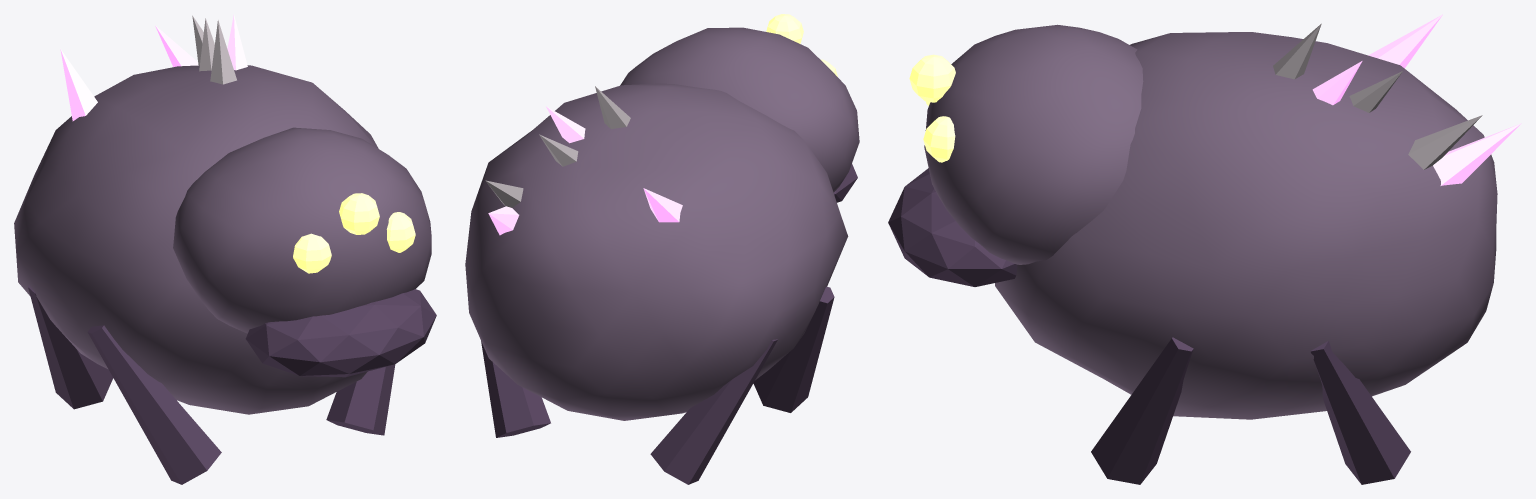
File: blightling.glb
The picture shows the model from 3 angles, left to right: view 1: azimuth 30°, elevation 25°; view 2: azimuth 150°, elevation 25°; view 3: azimuth 270°, elevation 25°; orthographic projection. The views are drawn at different scales.
Parts seen in each view (by area): view 1: blightling; view 2: blightling; view 3: blightling.
Boxes of the visible parts, x1=… form: blightling: x1=14, y1=15, x2=436, y2=484; blightling: x1=465, y1=14, x2=859, y2=484; blightling: x1=888, y1=14, x2=1521, y2=484.
Size of the model in its own units: 0.6463 by 0.6777 by 0.9186.
